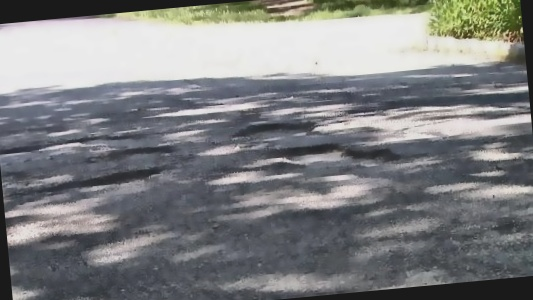pothole: (276, 134, 402, 175), (78, 165, 165, 190), (233, 117, 319, 139)
